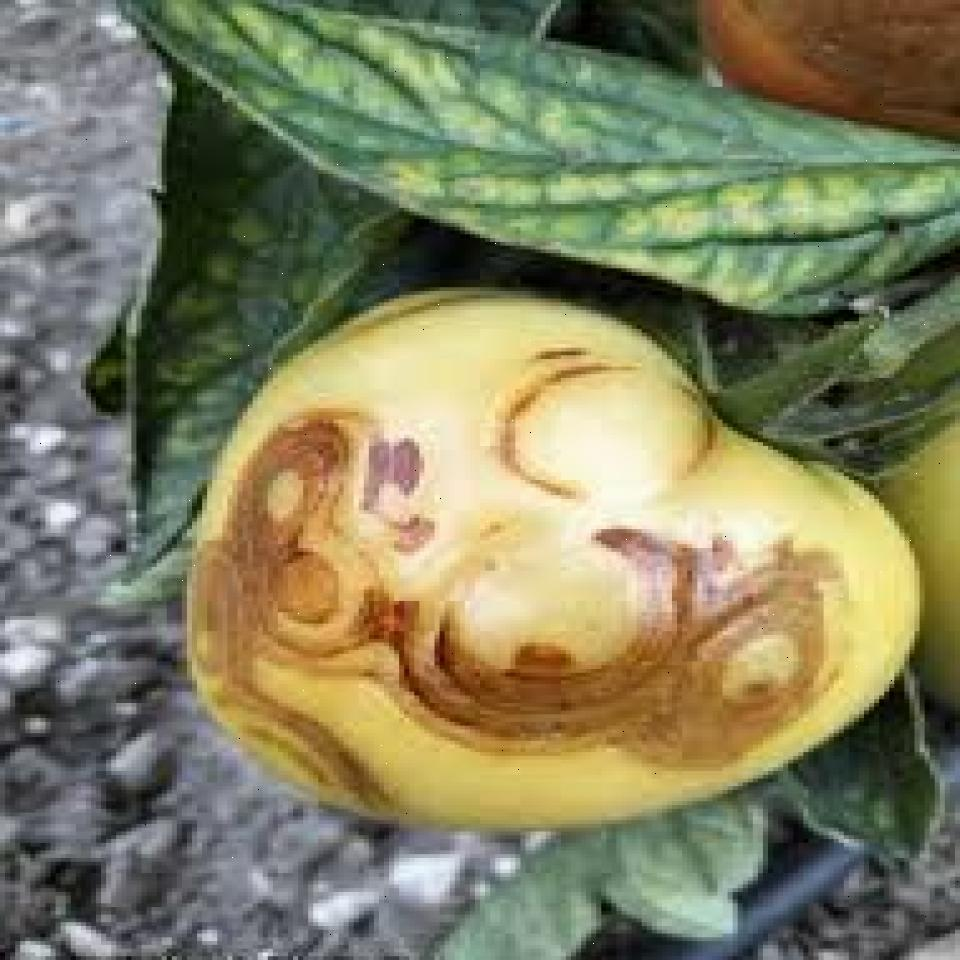Spotted wilt Virus: (181, 284, 925, 832)
